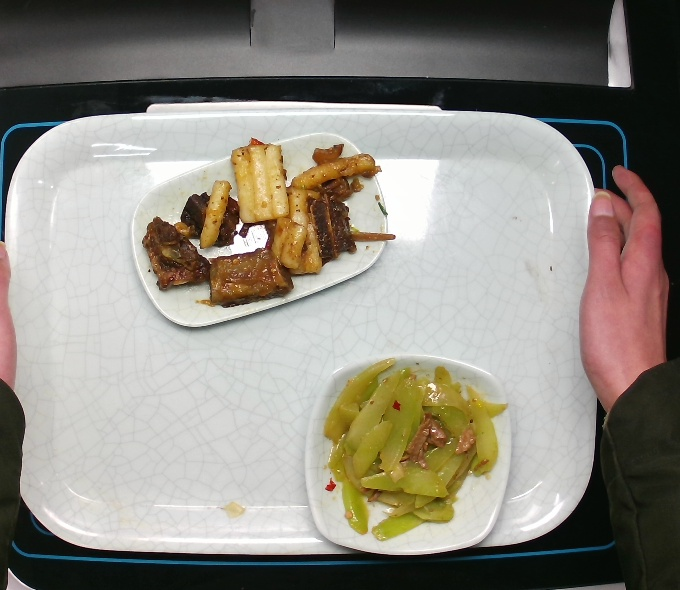wcq-NianGaoZaiPai: (141, 136, 396, 310)
wcq-WoSun: (326, 354, 508, 544)
